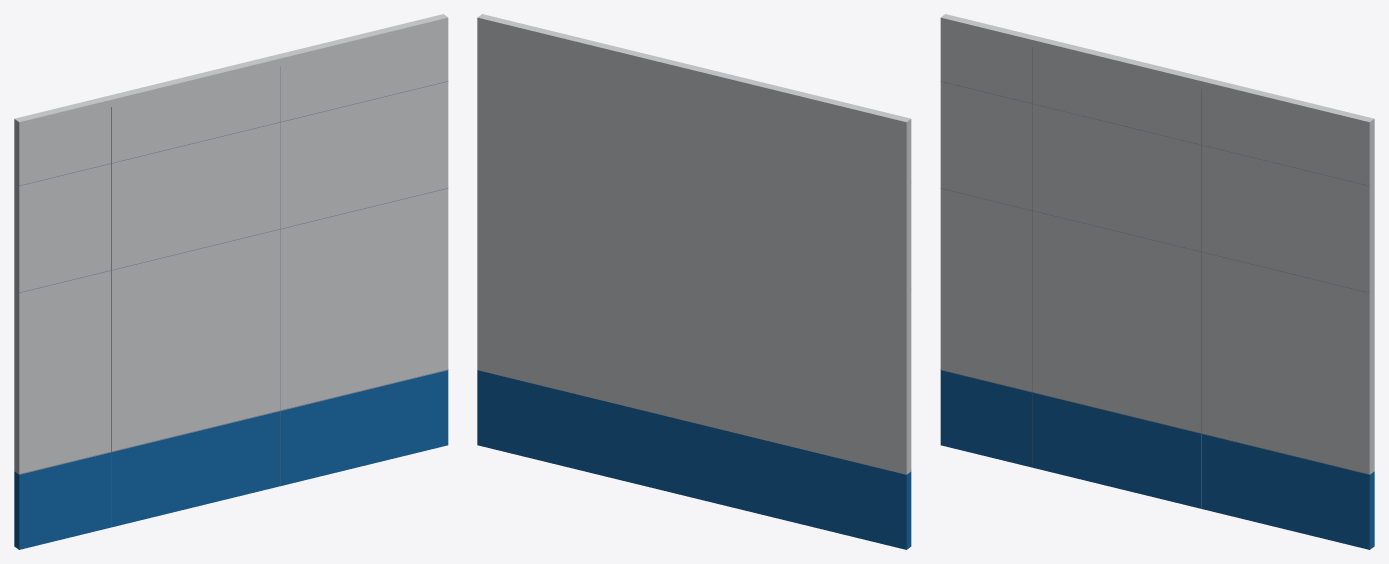
Rendered from SM_MPR4_Facade_10.fbx.
3 views of the same model, side by side, from view 1: azimuth 30°, elevation 25°; view 2: azimuth 150°, elevation 25°; view 3: azimuth 330°, elevation 25° (orthographic).
Visible parts, largest first — view 1: SM_MPR4_Facade_10; view 2: SM_MPR4_Facade_10; view 3: SM_MPR4_Facade_10.
Boxes of the visible parts, <box> form: SM_MPR4_Facade_10: <box>14,14,448,549</box>; SM_MPR4_Facade_10: <box>477,14,911,549</box>; SM_MPR4_Facade_10: <box>940,14,1374,549</box>.
Bounding box in the file's own units: 1554 × 31.44 × 1480.
